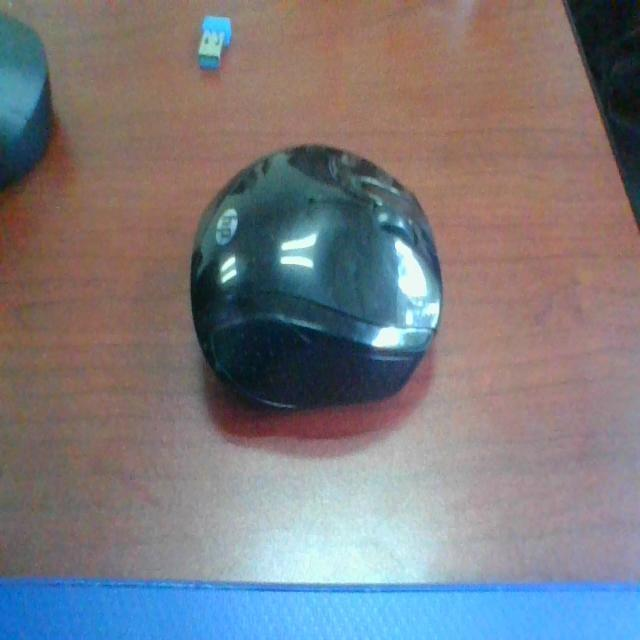Mouse: (187, 127, 465, 410)
